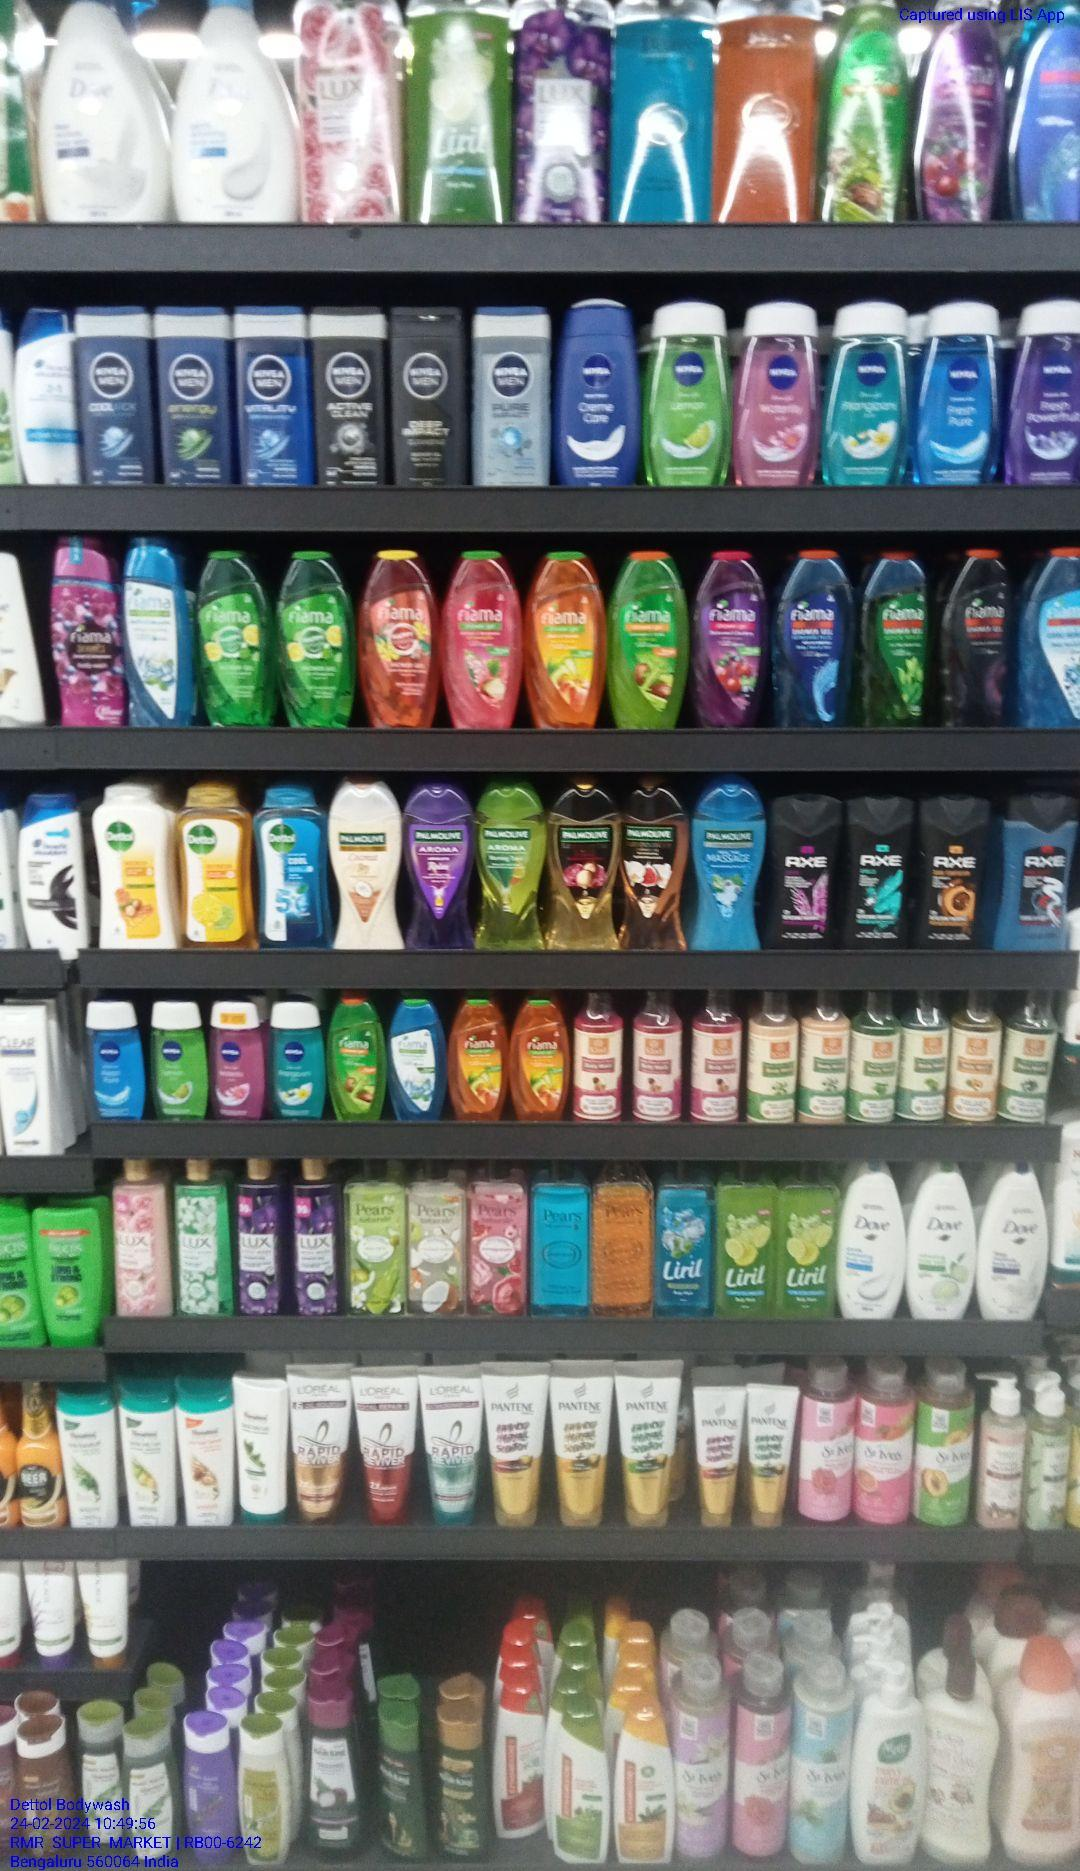Dettol_Bodywash_Cool: (257, 786, 329, 951)
Dettol_Bodywash_Refresh: (180, 786, 255, 952)
Dettol_Nourish_Body_Wash_250ML: (91, 786, 180, 948)
Dove_Deep_Moisture_Body_Wash_250ML: (977, 1162, 1048, 1321)
Dove_Gentle_Exfoliating_Body_Wash_250ML: (841, 1167, 905, 1318)
Dove_Refreshing_Body_Wash_250ML: (905, 1167, 973, 1320)
Fiama_Shower_Gel_Lemongrass_and_Jojoba_250ML: (609, 547, 690, 732), (327, 998, 386, 1121)
Fiama_Shower_Gel_Patchouli_and_Macadamia_250ML: (442, 547, 522, 726)
Fiama_Shower_Gel_Peach_and_Avocado_250ML: (528, 553, 606, 730), (449, 997, 508, 1121), (510, 996, 567, 1118)
Liril_Cooling_Mint_Body_Wash_250ML: (654, 1168, 714, 1318)
Liril_Lime_and_Tea_Tree_Oil_Body_Wash_250ML: (775, 1164, 837, 1322), (714, 1167, 773, 1324)
Lux_Black_Orchid_Scent_and_Juniper_Oil_Body_Wash_245ML: (240, 1158, 289, 1317), (292, 1155, 339, 1315)
Lux_Body_Wash_Skin_Detox_Freesia_Scent_and_Alove_Vera_245ML: (171, 1158, 238, 1316)
Nivea_Creme_Care_Body_Wash_250ML: (561, 296, 640, 490)
Nivea_Shower_Gel_Frangipani_and_Oil_250ML: (828, 299, 908, 490), (269, 1001, 327, 1119)
Nivea_Shower_Gel_Fresh_Powerfruit_250ML: (1012, 306, 1080, 481)
Nivea_Shower_Gel_Lemon_and_Oil_250ML: (644, 302, 726, 484), (148, 1001, 207, 1121)
Nivea_Shower_Gel_Waterlily_and_Oil_250ML: (734, 305, 822, 490), (210, 1002, 265, 1119)
Palmolive_Aroma_Moments_Feel_The_Massage_Shower_Gel_250ML: (693, 789, 765, 951)
Palmolive_Aroma_Morning_Tonic_Shower_Gel_250ML: (477, 785, 544, 953)
Palmolive_Aroma_Relax_250ML: (408, 786, 477, 952)
Palmolive_Coconut_Joy_Exfoliating_Body_Wash_250ML: (334, 784, 405, 951)
Palmolive_Luminous_Oils_Invigorating_Macadamia_Oil_With_Peony_250ML: (550, 789, 621, 951)
Palmolive_Luminous_Oils_With_White_Orchid_Shower_Gel_250ML: (624, 788, 688, 952)
Pears_Naturale_Aloe_Vera_Body_Wash_250ML: (347, 1160, 409, 1316)
Pears_Pure_Glycerin_and_Mint_Extracts_Body_Wash_250ML: (530, 1168, 593, 1316)
